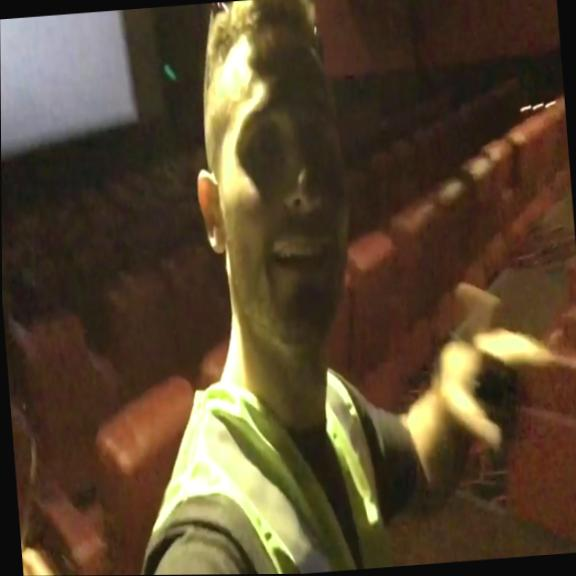safety_vest: (134, 365, 391, 575)
